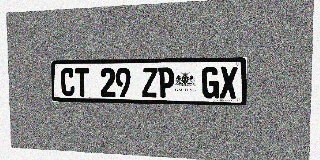2: (100, 68, 115, 97)
9: (116, 68, 131, 97)
C: (61, 68, 75, 96)
G: (202, 67, 219, 98)
P: (158, 67, 174, 98)
T: (75, 68, 89, 96)
X: (220, 67, 238, 99)
Z: (142, 67, 158, 98)
